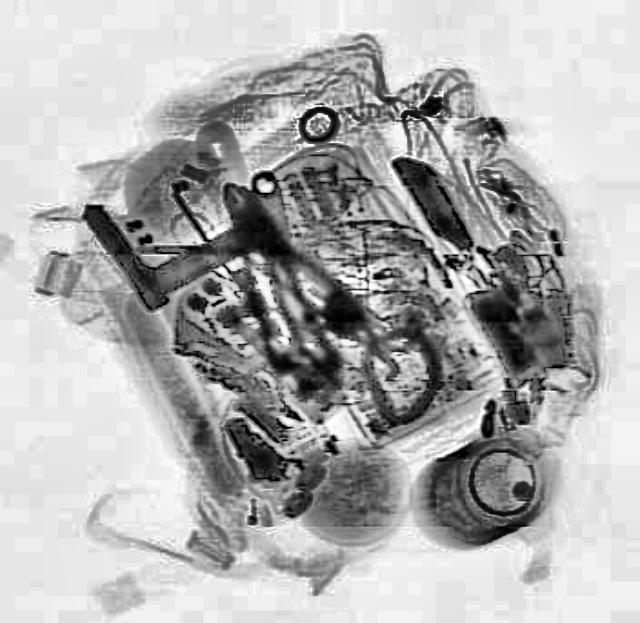Pliers: (172, 158, 388, 396)
Wrench: (227, 164, 349, 391)
